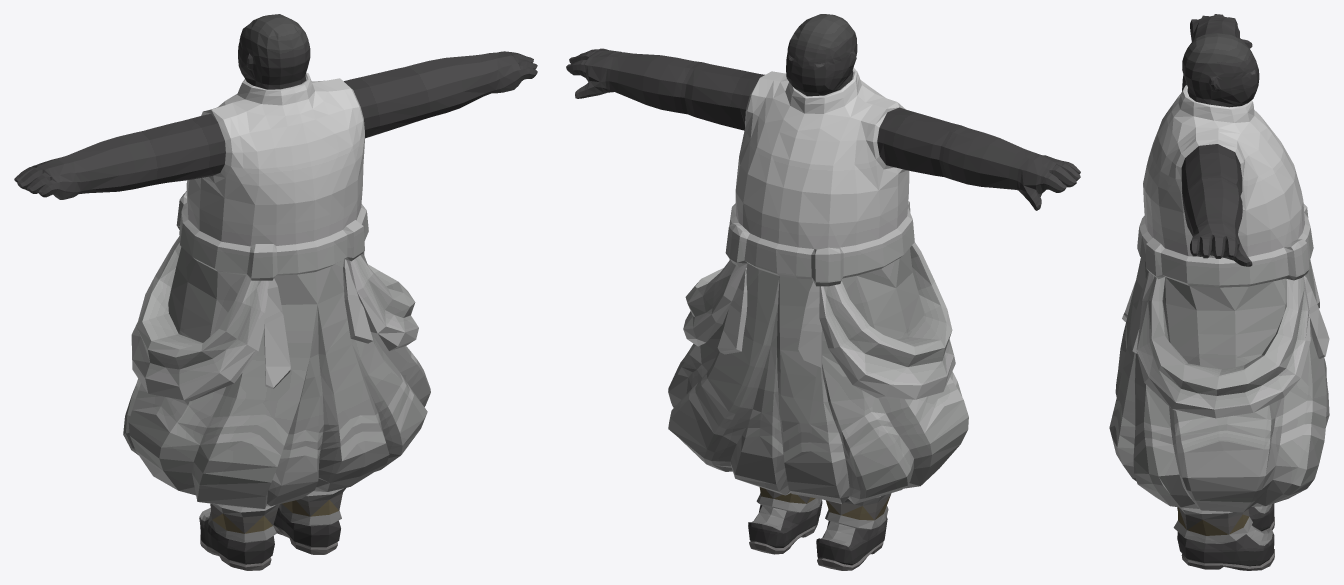
The model's file is NPC_AP25BigPants.glb.
3 renders of one model, left to right at view 1: azimuth 30°, elevation 25°; view 2: azimuth 150°, elevation 25°; view 3: azimuth 270°, elevation 25°, orthographic. The views are drawn at different scales.
Visible parts, largest first — view 1: NPC_AP25BigPants; view 2: NPC_AP25BigPants; view 3: NPC_AP25BigPants.
Part boxes in pixels (x1=…): NPC_AP25BigPants: x1=14, y1=14, x2=537, y2=570; NPC_AP25BigPants: x1=566, y1=14, x2=1080, y2=570; NPC_AP25BigPants: x1=1109, y1=14, x2=1329, y2=570.
Bounding box in the file's own units: 14.05 × 13.88 × 5.43.
Materials: 1 (1 with a texture image).
